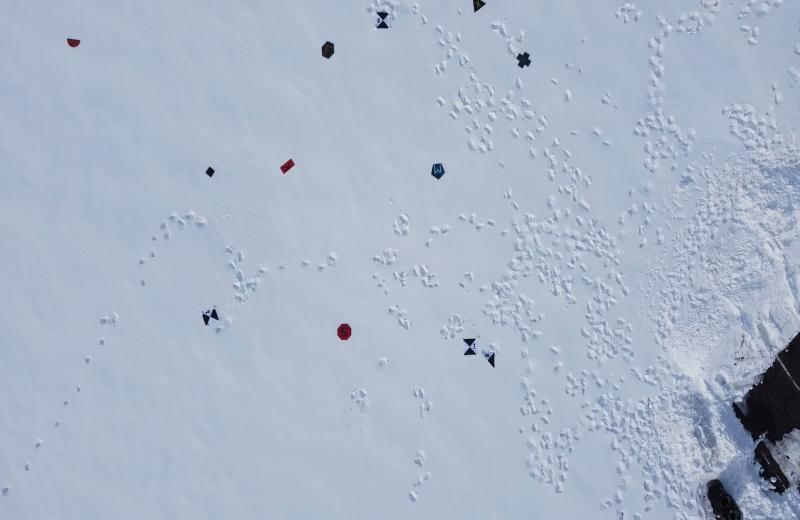Cross: (516, 52, 533, 69)
Hexagon: (320, 41, 336, 59)
Octagon: (336, 322, 352, 340)
Pentagon: (430, 162, 446, 180)
Rectangle: (280, 158, 296, 174)
Semi Circle: (66, 38, 82, 48)
Square: (205, 166, 216, 178)
Triangle: (473, 0, 487, 13)
